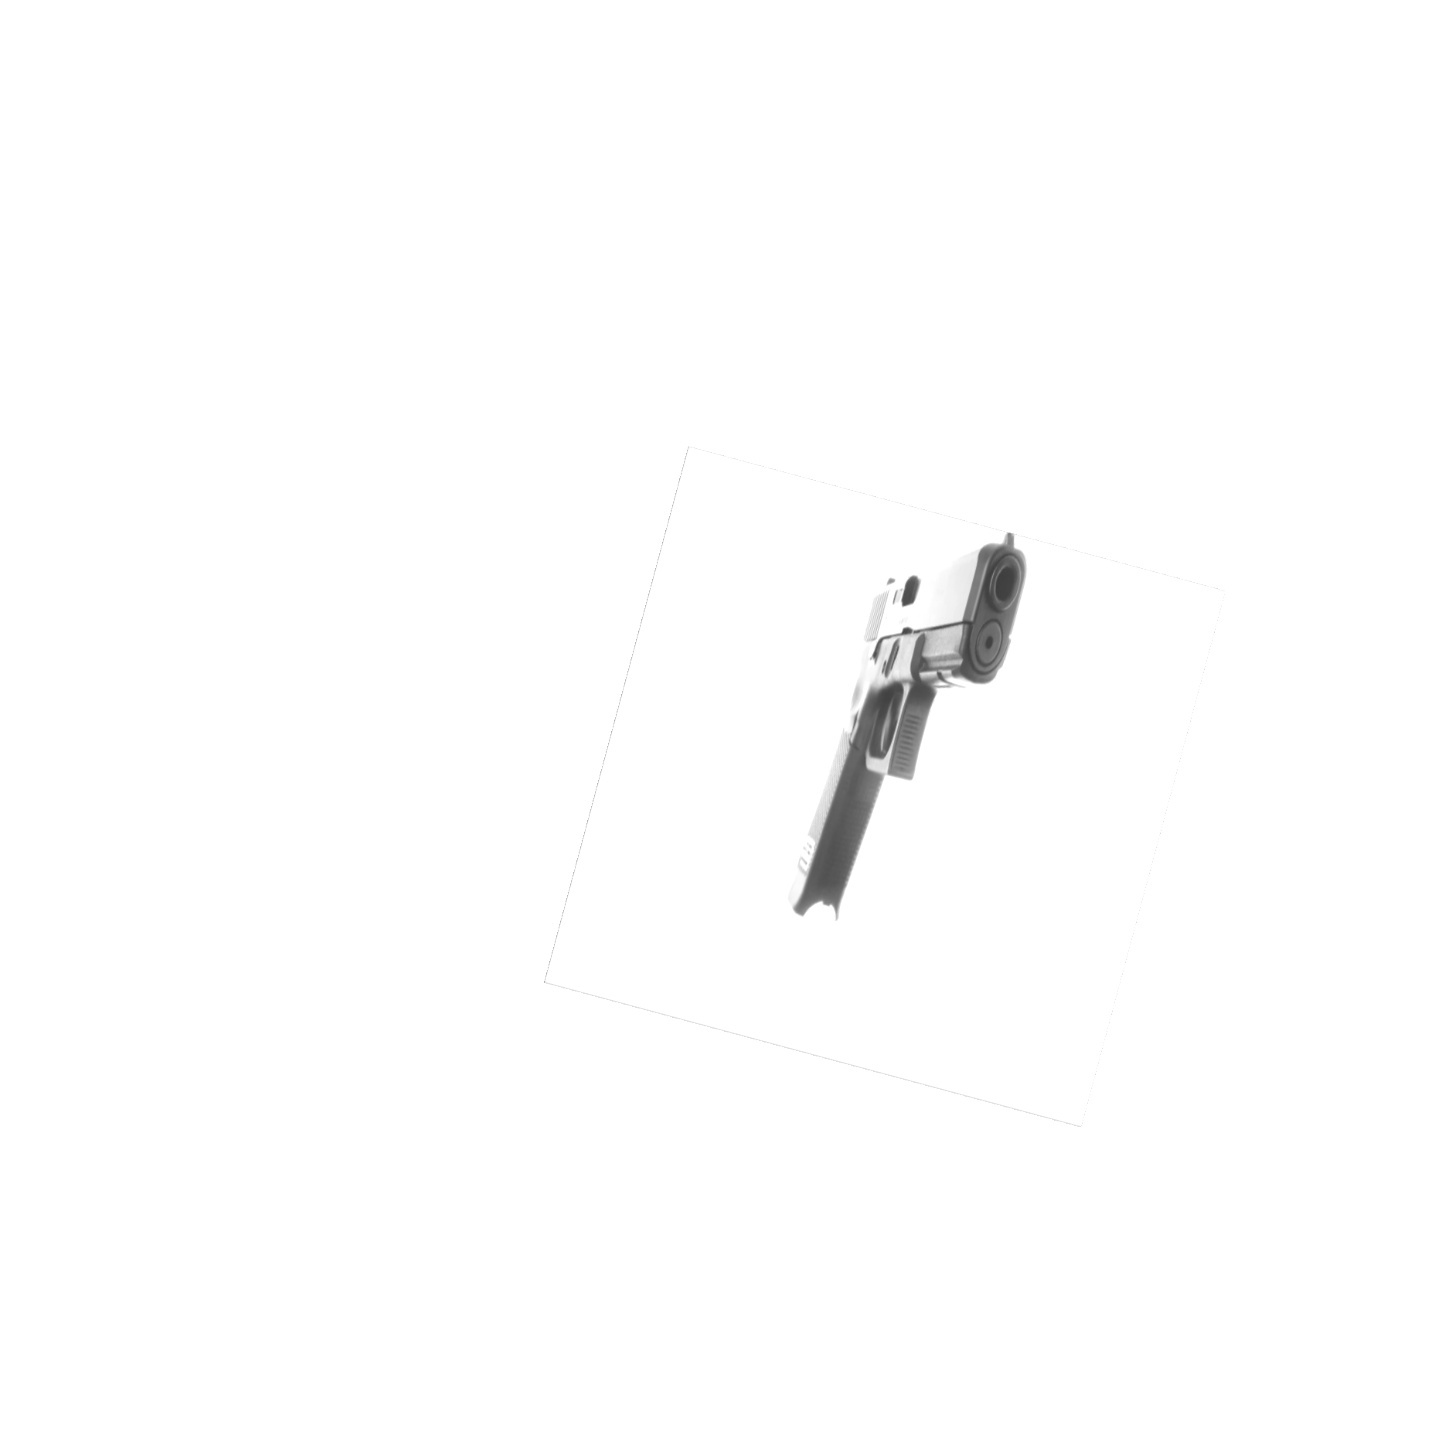gun: (790, 529, 1032, 923)
